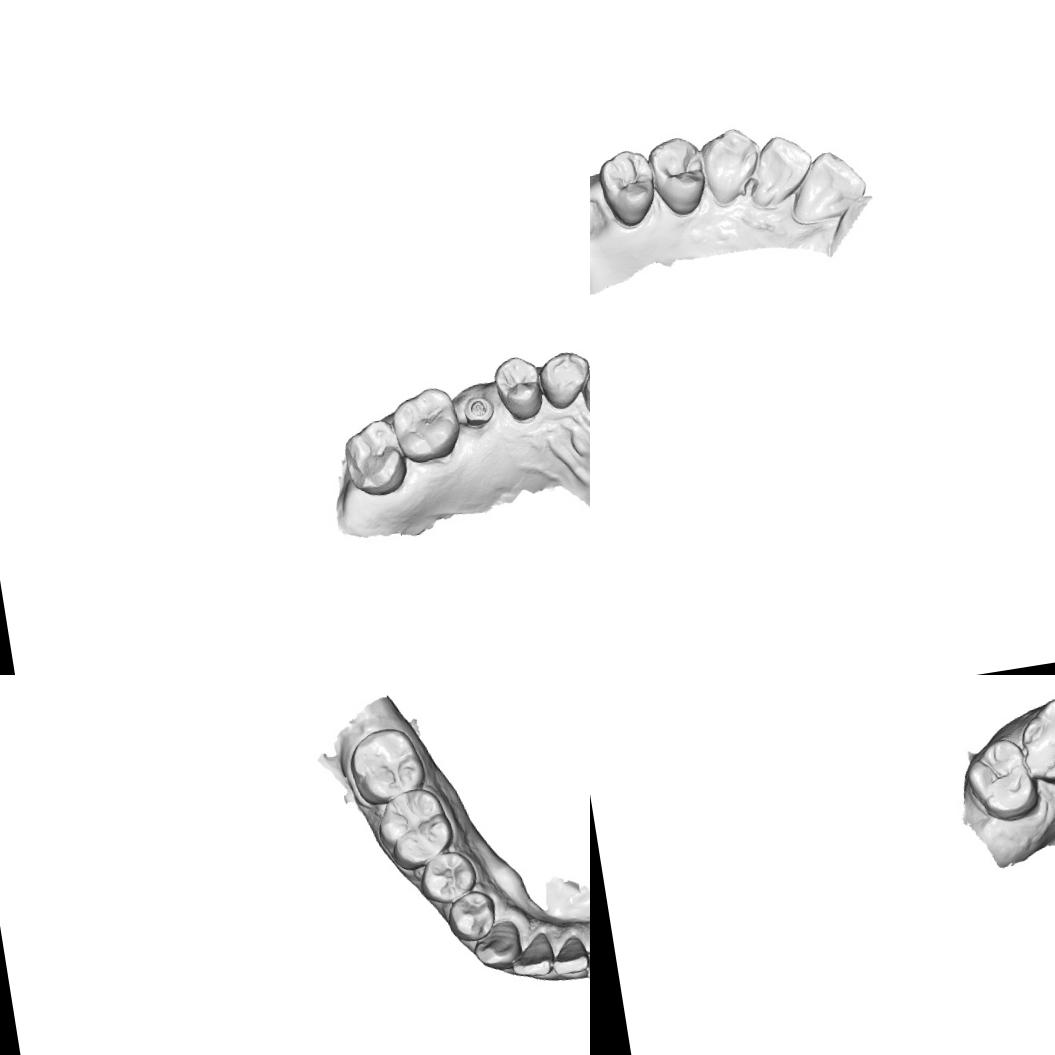canine: (698, 124, 765, 208), (462, 912, 529, 978), (533, 345, 590, 413)
implant: (450, 382, 503, 440)
incisor: (779, 143, 873, 230), (746, 129, 820, 208), (506, 928, 558, 984), (545, 931, 590, 984), (577, 922, 590, 983), (578, 360, 590, 421)
molar: (370, 782, 460, 876), (342, 720, 430, 810), (958, 732, 1040, 825), (385, 383, 466, 468), (338, 414, 412, 501), (1013, 692, 1055, 789)
premolar: (643, 130, 711, 221), (594, 144, 661, 232), (489, 350, 548, 426), (414, 844, 482, 908), (441, 886, 501, 946)
